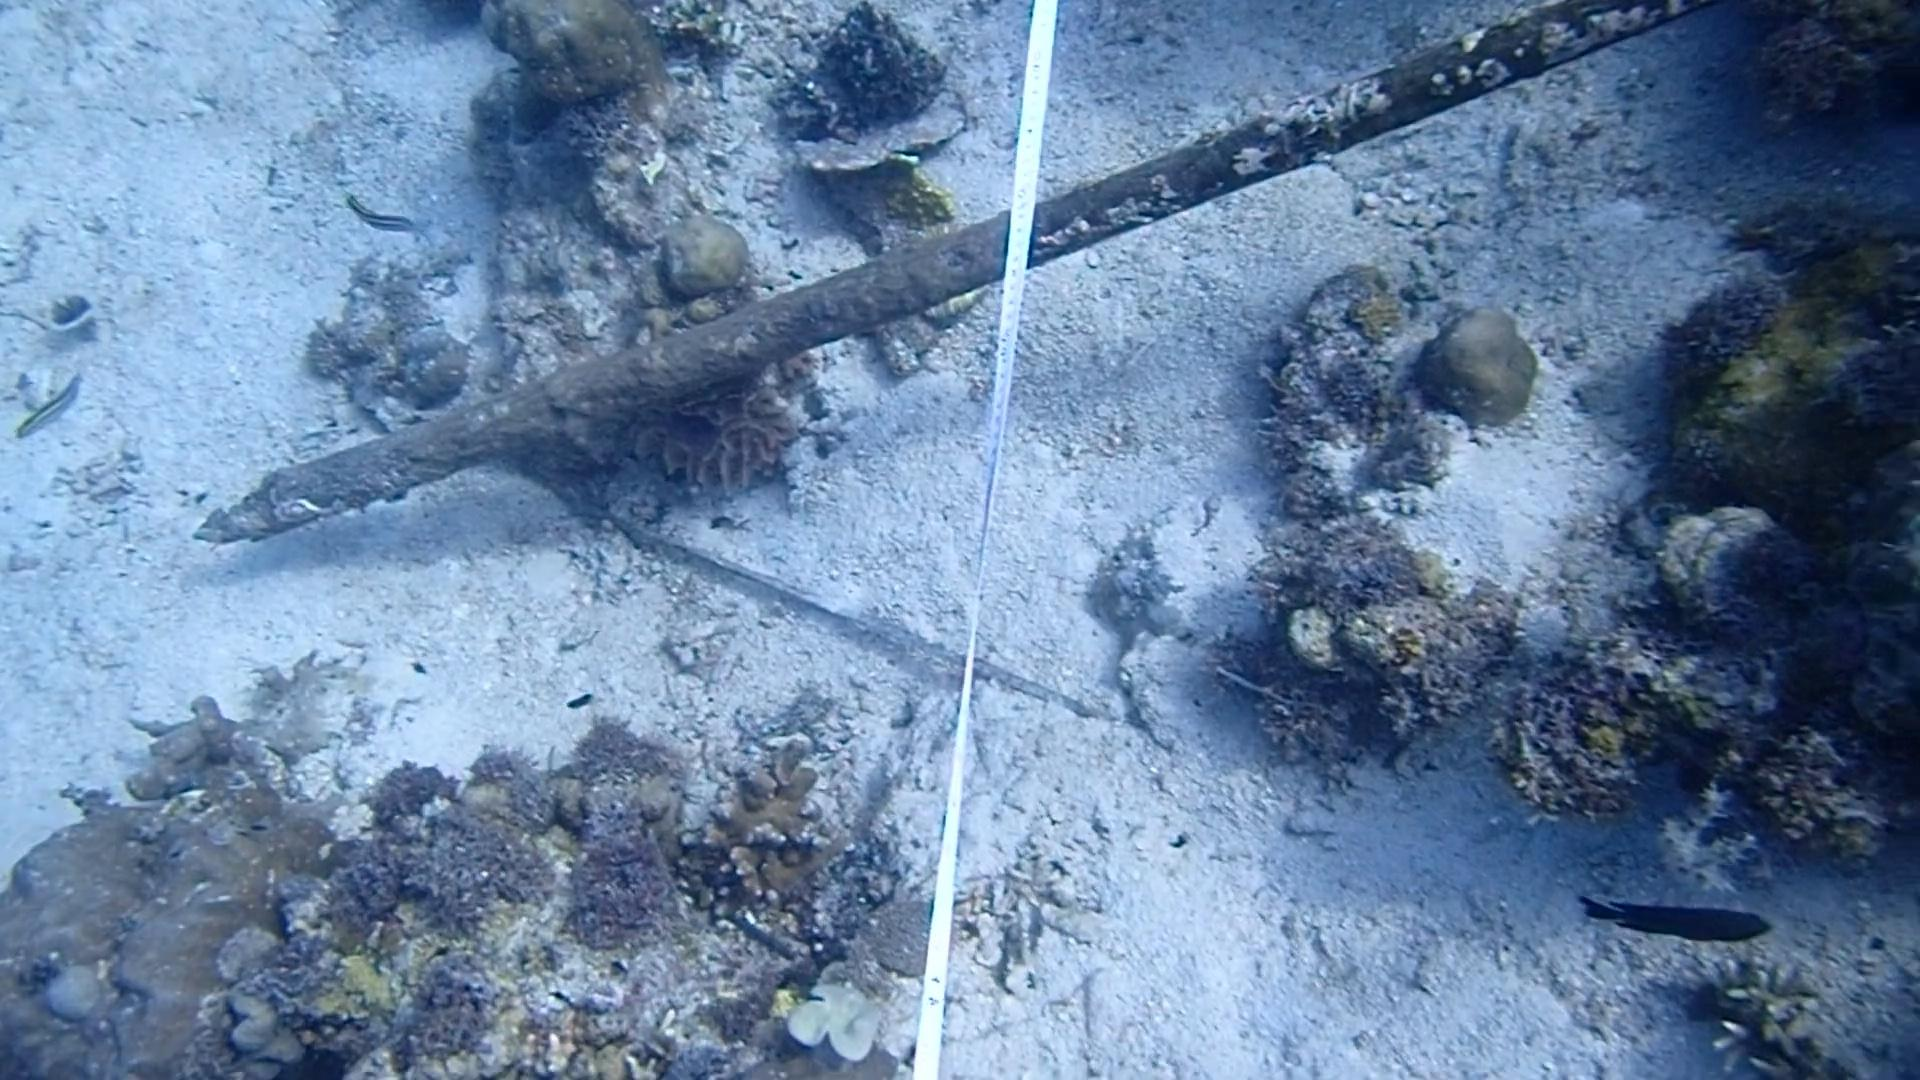Dark Fish: (1575, 882, 1778, 959)
Striped Fish: (3, 359, 96, 447), (335, 194, 427, 252)
